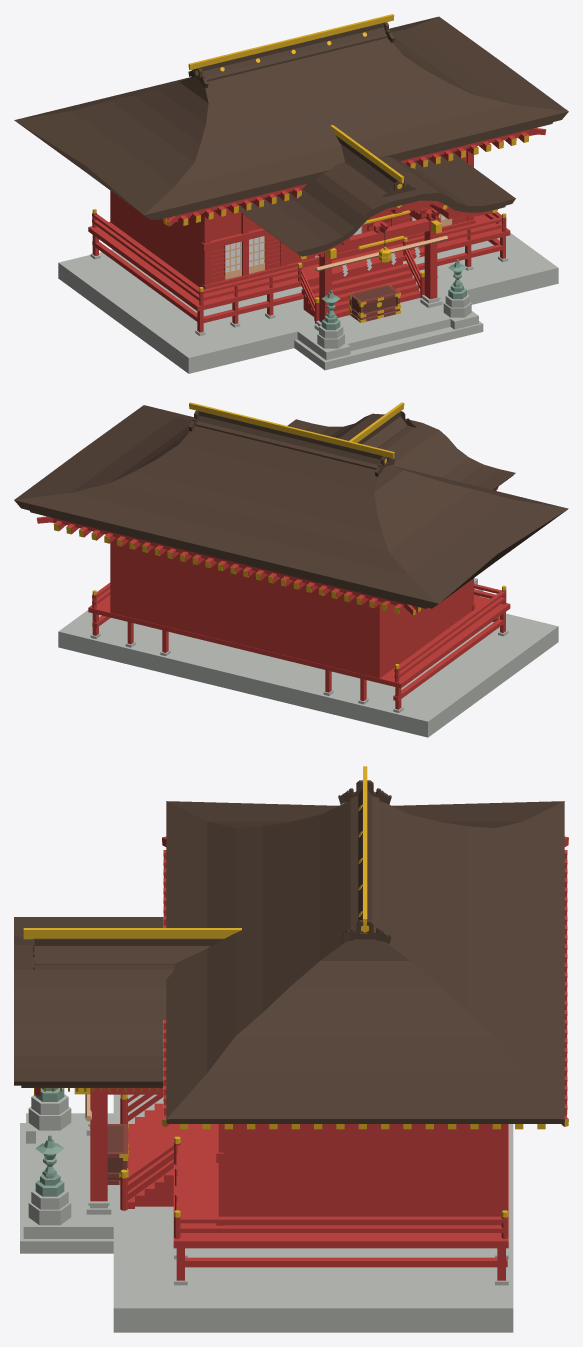
Rendered from Musashi_Mitake.fbx.
The picture shows the model from 3 angles, top to bottom: view 1: azimuth 30°, elevation 25°; view 2: azimuth 150°, elevation 25°; view 3: azimuth 270°, elevation 25°; orthographic projection. The views are drawn at different scales.
Parts seen in each view (by area): view 1: Cube.022, Plane, Cube, Cube.021, Cube.024, Roof_front.004, Cube.009, Roof_front.006, Cube.073, Cube.064, Cube.066, Cube.054 (+24 smaller); view 2: Cube.022, Cube.021, Plane, Cube, Cube.024, Roof_front.004, Cube.044, Roof_front.006, Cube.045, Cube.050, Cube.093, Cube.034 (+6 smaller); view 3: Cube.022, Plane, Cube.021, Cube, Cube.024, Cube.093, Roof_front.004, Roof_front.015, Cube.061, Cube.062, Cylinder.008, Roof_front.001 (+11 smaller).
Boxes of the visible parts, bbox=[...] form: Cube.022: bbox=[14, 16, 568, 219]; Plane: bbox=[58, 233, 558, 373]; Cube: bbox=[237, 152, 515, 255]; Cube.021: bbox=[110, 149, 466, 287]; Cube.024: bbox=[88, 215, 510, 311]; Roof_front.004: bbox=[196, 27, 387, 81]; Cube.009: bbox=[319, 217, 437, 322]; Roof_front.006: bbox=[188, 14, 394, 70]; Cube.073: bbox=[211, 214, 467, 283]; Cube.064: bbox=[203, 150, 473, 285]; Cube.066: bbox=[202, 219, 475, 289]; Cube.054: bbox=[203, 244, 502, 322]; Cube.022: bbox=[14, 405, 568, 608]; Cube.021: bbox=[110, 537, 472, 678]; Plane: bbox=[58, 578, 558, 737]; Cube: bbox=[287, 413, 515, 489]; Cube.024: bbox=[88, 595, 510, 688]; Roof_front.004: bbox=[195, 415, 386, 469]; Cube.044: bbox=[54, 520, 405, 614]; Roof_front.006: bbox=[189, 402, 394, 458]; Cube.045: bbox=[53, 518, 412, 607]; Cube.050: bbox=[53, 524, 399, 614]; Cube.093: bbox=[92, 615, 503, 701]; Cube.034: bbox=[92, 612, 505, 709]; Cube.022: bbox=[166, 800, 564, 1123]; Plane: bbox=[20, 1094, 513, 1332]; Cube.021: bbox=[222, 1124, 507, 1225]; Cube: bbox=[14, 917, 174, 1085]; Cube.024: bbox=[173, 1124, 508, 1248]; Cube.093: bbox=[185, 1257, 507, 1267]; Roof_front.004: bbox=[350, 789, 379, 939]; Roof_front.015: bbox=[34, 946, 209, 964]; Cube.061: bbox=[178, 1216, 507, 1223]; Cube.062: bbox=[178, 1225, 507, 1232]; Cylinder.008: bbox=[28, 1094, 71, 1225]; Roof_front.001: bbox=[23, 928, 241, 939].
Size of the model in its own units: 6574 by 3388 by 4846.
